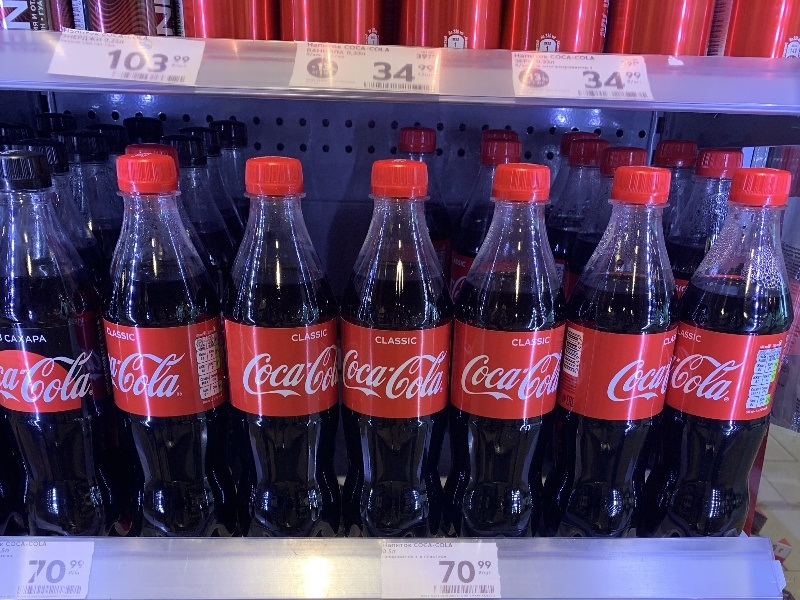lemonade: (101, 148, 244, 549), (651, 166, 800, 549), (216, 153, 356, 546), (333, 155, 472, 545), (443, 156, 573, 544), (1, 146, 121, 542), (557, 162, 679, 540)
